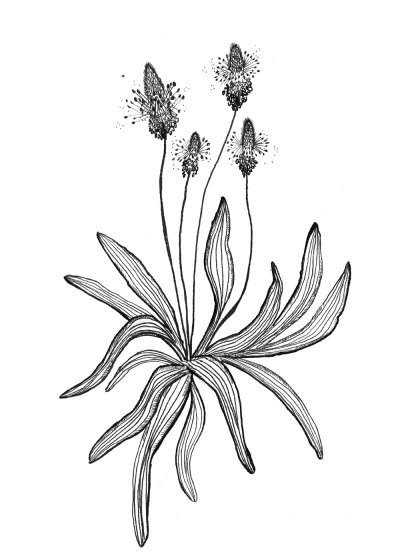buckhorn plantain: (47, 37, 368, 487)
